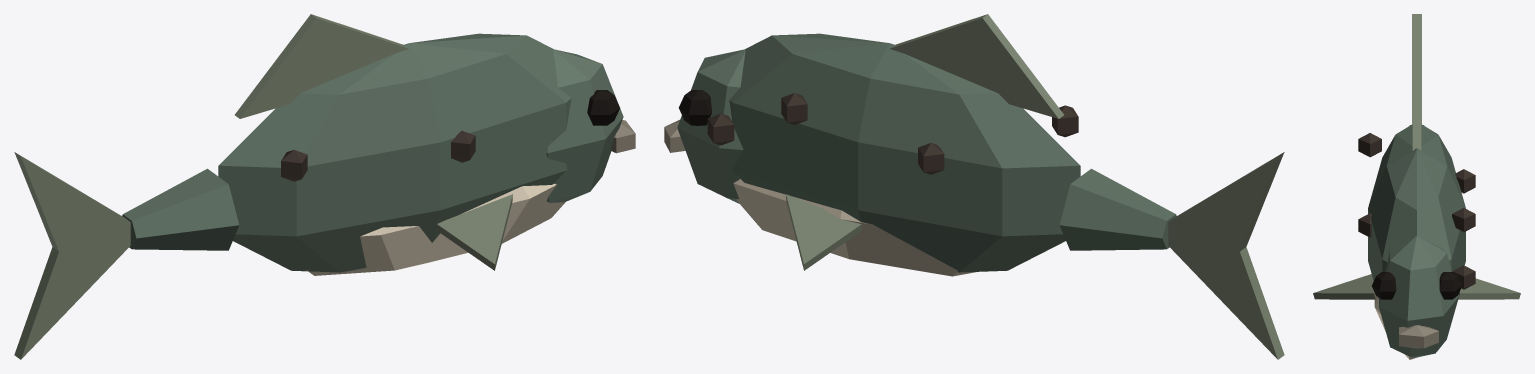
Rendered from fish.glb.
The picture shows the model from 3 angles, left to right: view 1: azimuth 30°, elevation 25°; view 2: azimuth 150°, elevation 25°; view 3: azimuth 270°, elevation 25°; orthographic projection. The views are drawn at different scales.
Visible parts, largest first — view 1: body, tail; view 2: body, tail; view 3: body, tail.
Part boxes in pixels (x1,y1,x2,y2): body: [218, 14, 635, 275]; tail: [14, 152, 239, 359]; body: [664, 14, 1080, 276]; tail: [1059, 152, 1284, 359]; body: [1313, 74, 1520, 359]; tail: [1409, 14, 1424, 125].
Bounding box in the file's own units: 0.6415 × 0.275 × 0.2441.
